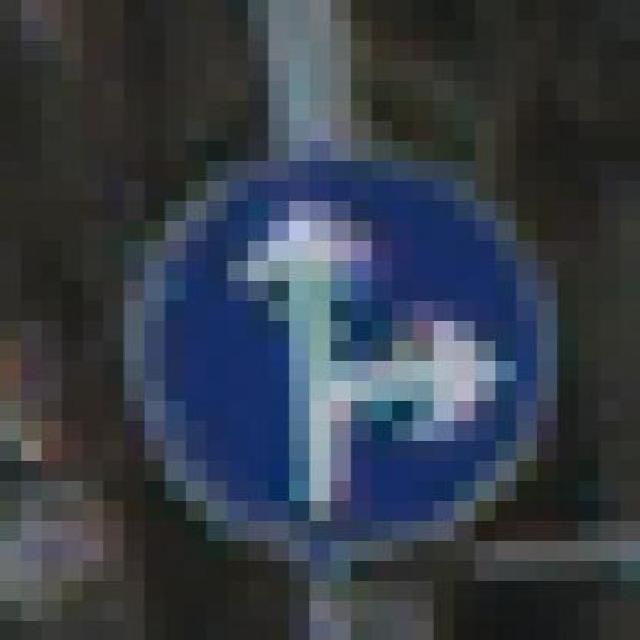Go Straight or Turn Right: (124, 80, 558, 580)
